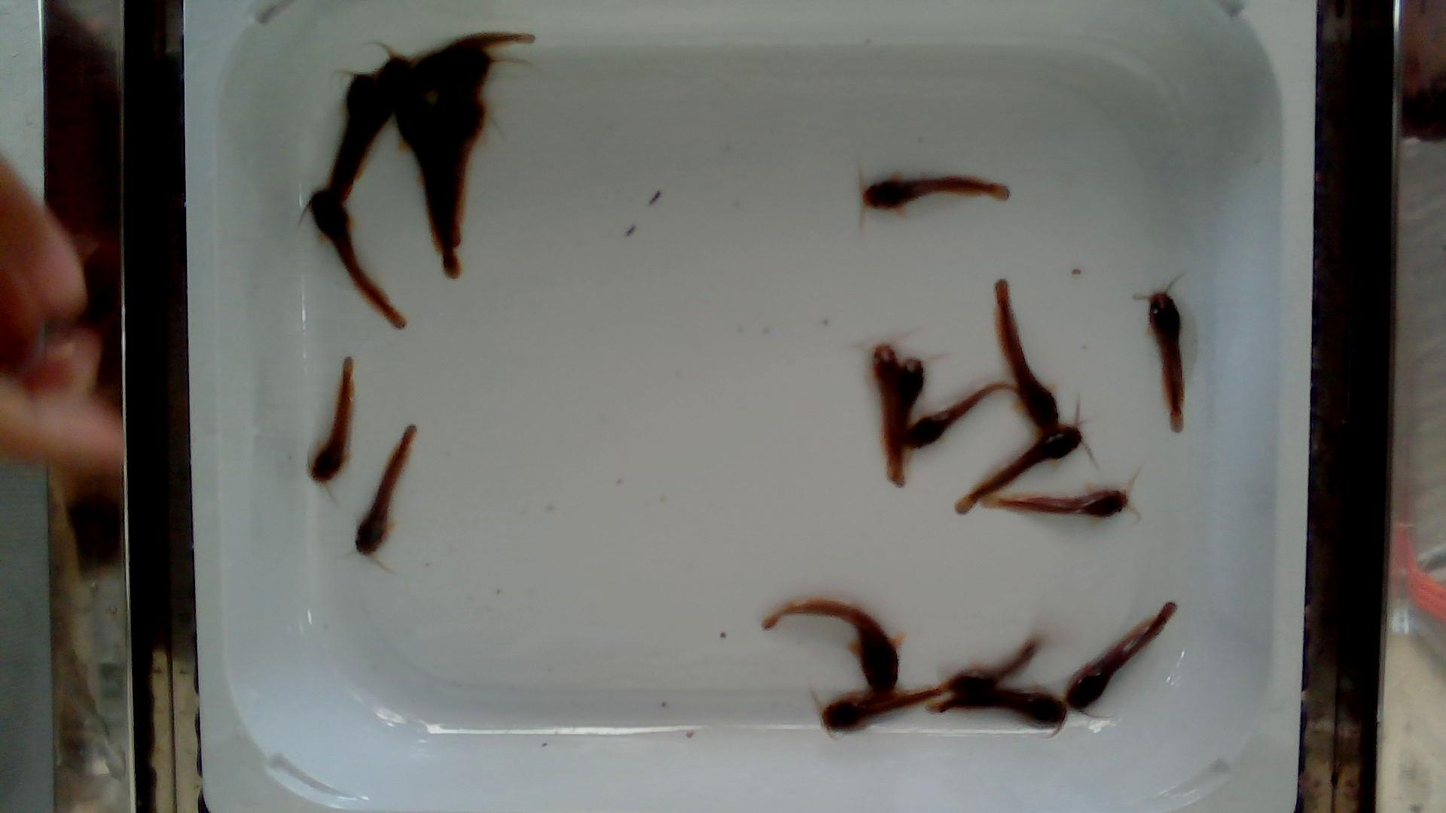lele: (309, 190, 406, 330), (764, 598, 898, 693), (393, 94, 461, 279), (1063, 602, 1176, 711), (957, 424, 1081, 513), (996, 279, 1057, 434), (431, 46, 492, 182), (403, 33, 535, 93), (356, 425, 416, 555), (354, 47, 411, 182), (908, 382, 1011, 449), (443, 96, 486, 248), (331, 73, 376, 201), (820, 686, 947, 731), (310, 357, 354, 483), (1146, 290, 1184, 432), (945, 640, 1037, 698), (863, 173, 1009, 209), (928, 690, 1063, 728), (892, 358, 924, 489), (984, 489, 1128, 517), (872, 343, 898, 481)
